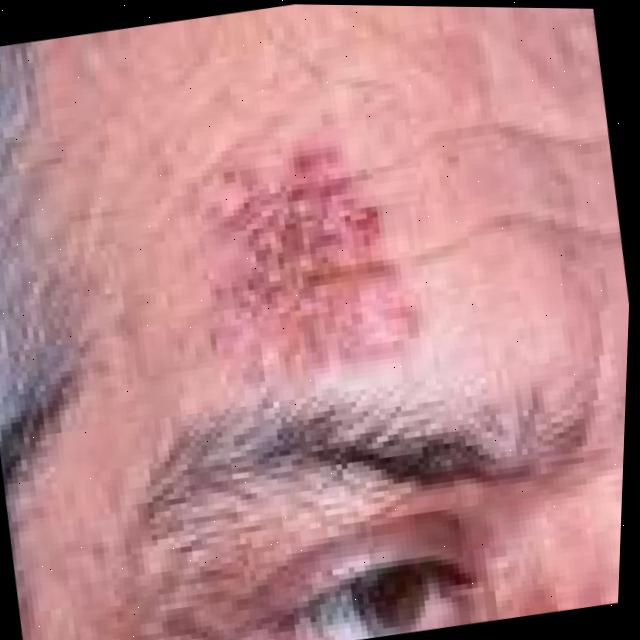Shingles: (181, 127, 431, 394)
